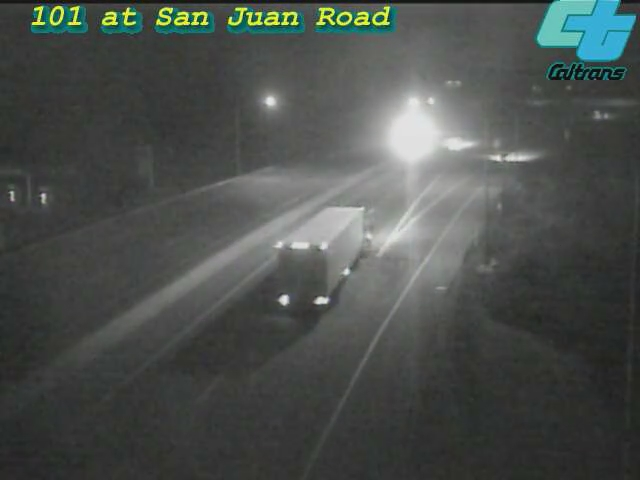vehicle: (283, 225, 363, 305), (389, 109, 439, 159), (574, 90, 624, 140), (432, 119, 482, 169), (478, 132, 528, 182)
